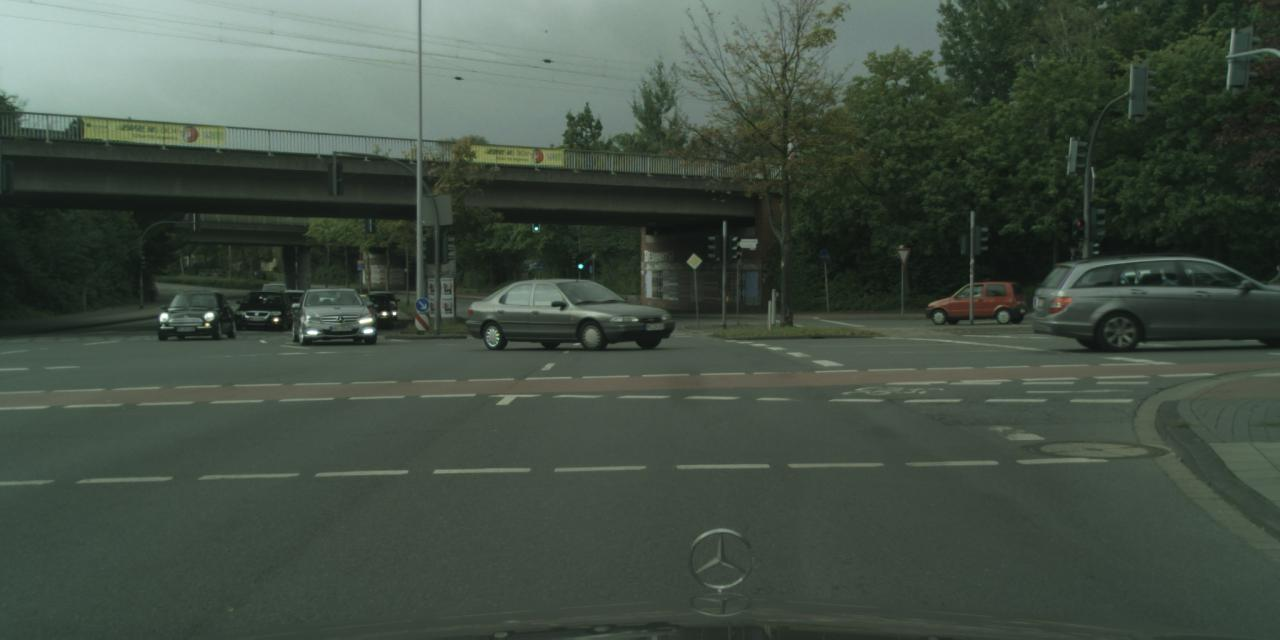ped: (526, 268, 538, 296), (148, 279, 156, 302)
